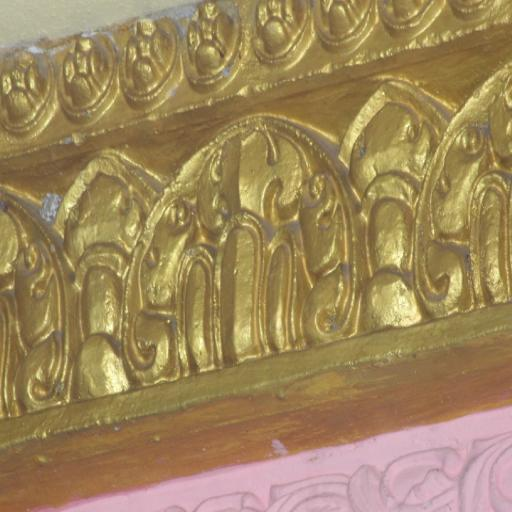hoa: (183, 0, 239, 89), (57, 30, 113, 114), (123, 19, 179, 103), (2, 46, 50, 127), (310, 0, 384, 50), (255, 0, 309, 65)
la: (128, 108, 352, 380), (338, 78, 440, 324), (415, 74, 512, 311), (62, 155, 149, 400), (0, 182, 69, 406)
